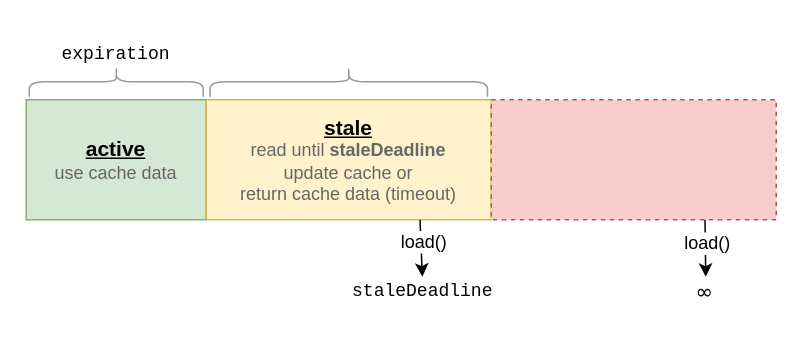
This 803x345 diagram has some shape labels left out. The shapes that lost their labels are listed below. From the top down, each one's centre as x and y in pixels, then its label:
[348,81]: stalePeriod
[633,159]: expired force read
